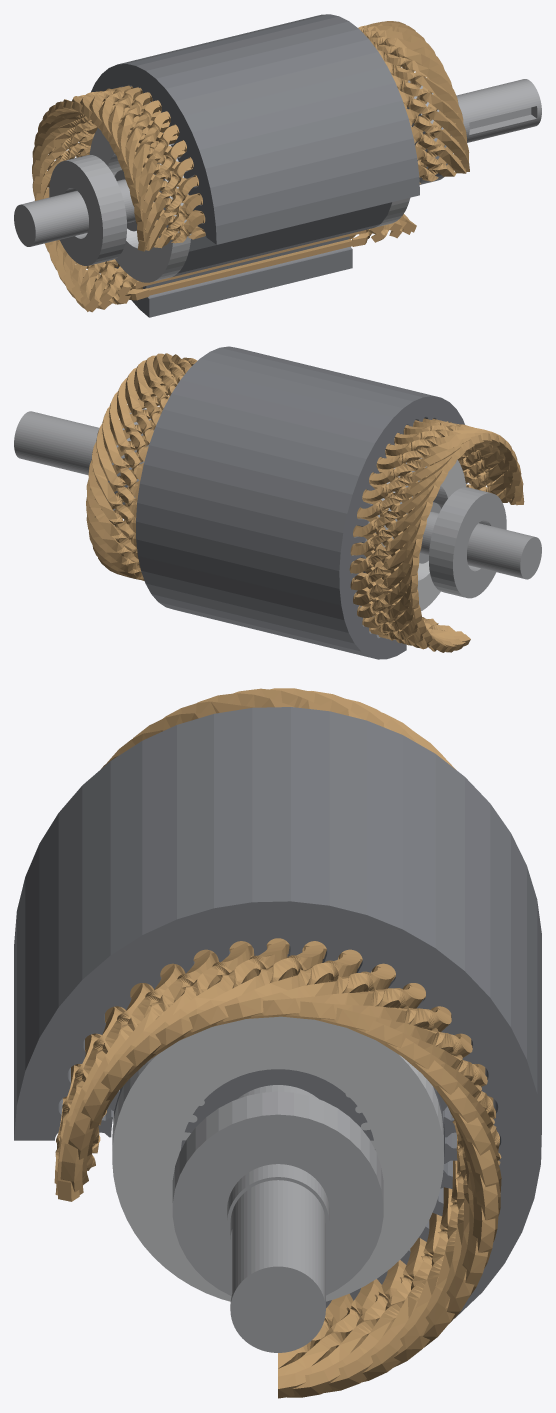
The model's file is internals_cutaway.glb.
3 views of the same model, one above another, from view 1: azimuth 30°, elevation 25°; view 2: azimuth 150°, elevation 25°; view 3: azimuth 270°, elevation 25° (orthographic). The views are drawn at different scales.
Visible parts, largest first — view 1: Stator_Core, Shaft, Bearing_NDE, Rotor_Core, Coil_02, EndRing_NDE, Coil_03, Coil_04, Coil_01_short, Coil_36, Coil_05, Coil_35 (+21 smaller); view 2: Stator_Core, Shaft, Bearing_NDE, Coil_27, Coil_26, Coil_28, Coil_25, Coil_29, Coil_24, Coil_30, Coil_31, Coil_23 (+13 smaller); view 3: Stator_Core, EndRing_DE, Bearing_DE, Shaft, Rotor_Core, Coil_34, Coil_36, Coil_35, Coil_33, Coil_32, Coil_01_short, Coil_15 (+23 smaller).
Boxes of the visible parts, box(x1,y1,x2,y2) form: Stator_Core: box(91, 14, 419, 317); Shaft: box(14, 79, 541, 246); Bearing_NDE: box(49, 155, 126, 265); Rotor_Core: box(163, 132, 392, 276); Coil_02: box(129, 61, 463, 295); EndRing_NDE: box(89, 128, 191, 282); Coil_03: box(134, 75, 466, 289); Coil_04: box(137, 90, 469, 248); Coil_01_short: box(123, 50, 458, 233); Coil_36: box(116, 41, 452, 219); Coil_05: box(137, 108, 469, 251); Coil_35: box(108, 36, 445, 203); Stator_Core: box(136, 346, 468, 659); Shaft: box(14, 411, 541, 579); Bearing_NDE: box(429, 487, 506, 598); Coil_27: box(96, 395, 432, 573); Coil_26: box(92, 406, 426, 590); Coil_28: box(102, 385, 440, 555); Coil_25: box(88, 420, 422, 605); Coil_29: box(109, 377, 448, 536); Coil_24: box(86, 430, 419, 617); Coil_30: box(117, 369, 456, 518); Coil_31: box(125, 364, 465, 501); Coil_23: box(86, 446, 417, 627); Stator_Core: box(14, 707, 541, 1318); EndRing_DE: box(112, 1016, 443, 1301); Bearing_DE: box(172, 1091, 383, 1295); Shaft: box(227, 1085, 329, 1352); Rotor_Core: box(113, 1069, 442, 1149); Coil_34: box(181, 693, 360, 1039); Coil_36: box(99, 713, 286, 1125); Coil_35: box(150, 701, 323, 1059); Coil_33: box(213, 688, 394, 1026); Coil_32: box(247, 688, 425, 1018); Coil_01_short: box(92, 729, 250, 1153); Coil_15: box(287, 1006, 451, 1397).
Size of the model in its own units: 335 by 155 by 155.
